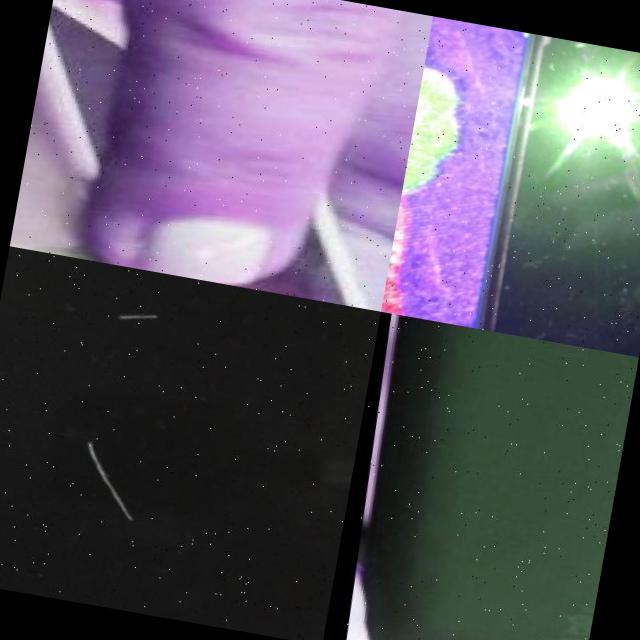scratch: (57, 434, 159, 544), (103, 302, 165, 346)
